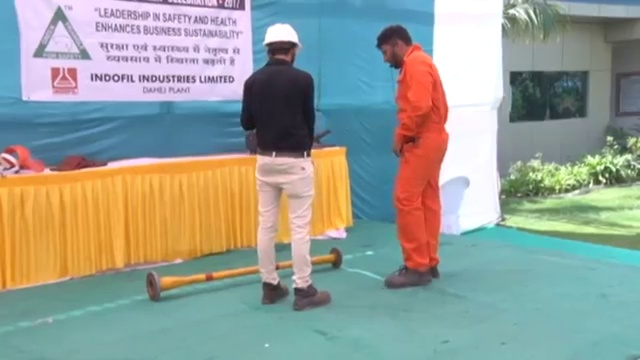helmet: (261, 20, 304, 51)
helmet_off: (374, 23, 417, 71)
helmet_on: (260, 19, 303, 64)
person: (240, 19, 332, 312), (373, 21, 449, 289)
